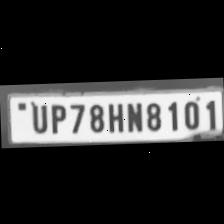0: (179, 97, 201, 130)
1: (200, 96, 220, 131), (162, 97, 180, 131)
7: (65, 99, 85, 134)
8: (84, 98, 106, 132), (142, 98, 162, 131)
H: (104, 98, 124, 132)
N: (123, 98, 143, 132)
P: (46, 99, 66, 133)
U: (26, 100, 48, 133)
